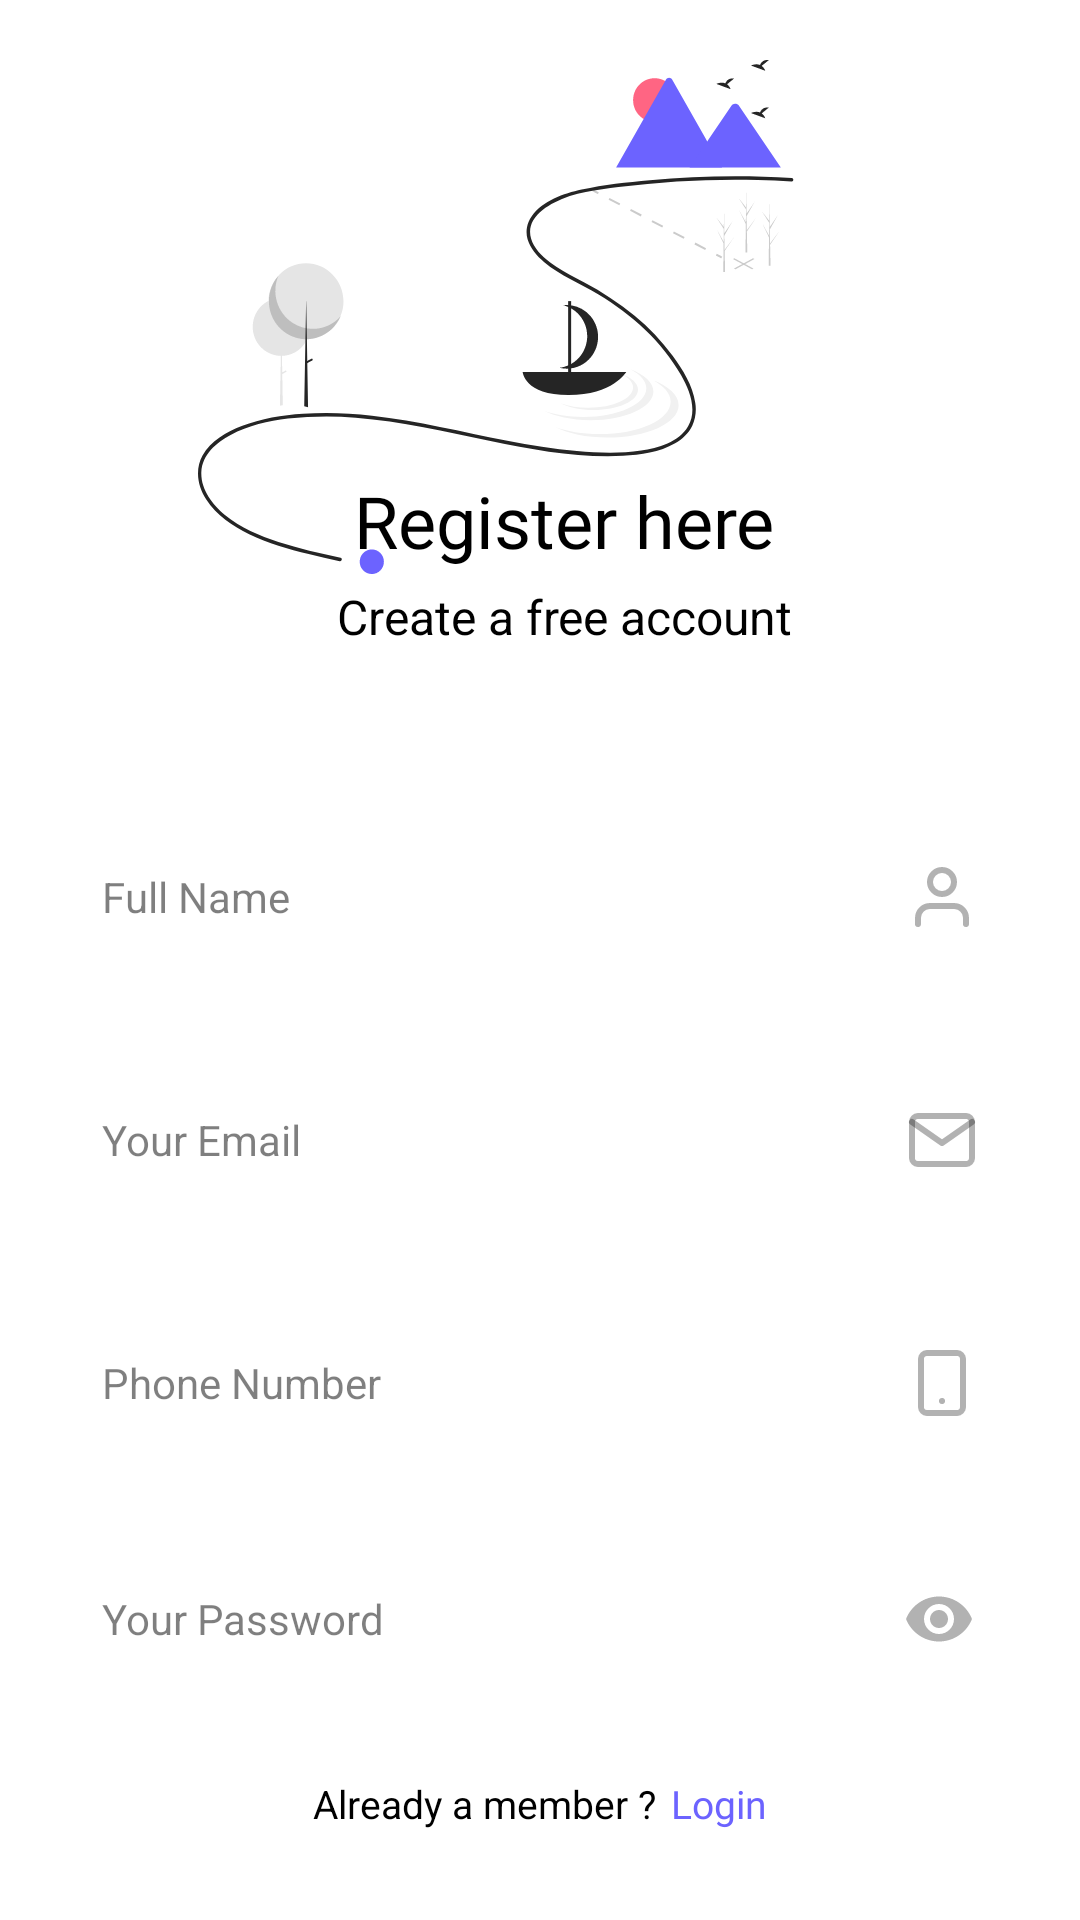

Where to tap for icons on this 1080px×1920px app screen, as point (x, y):
eye: point (939, 1619)
